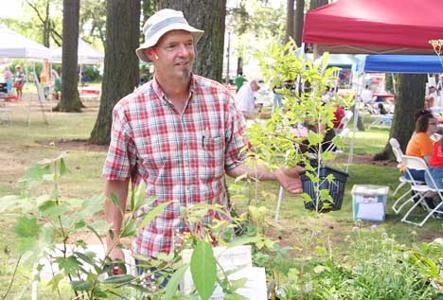person: (100, 8, 308, 298)
